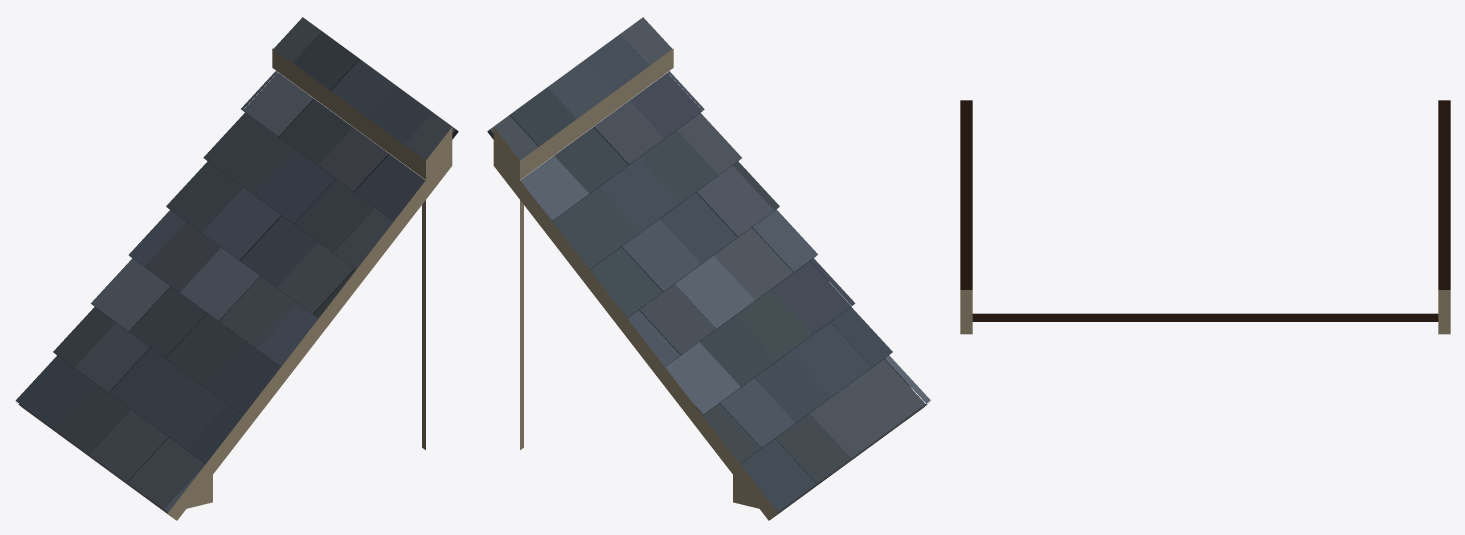
Rendered from roof-high-slate.glb.
3 views of the same model, side by side, from view 1: azimuth 30°, elevation 25°; view 2: azimuth 150°, elevation 25°; view 3: azimuth 270°, elevation 25° (orthographic). The views are drawn at different scales.
Visible parts, largest first — view 1: roof-high-slate; view 2: roof-high-slate; view 3: roof-high-slate.
Part boxes in pixels (x1,y1,x2,y2): roof-high-slate: (15, 17, 458, 520); roof-high-slate: (487, 17, 930, 520); roof-high-slate: (960, 100, 1450, 334).
Bounding box in the file's own units: 1.09 × 1.18 × 1.
